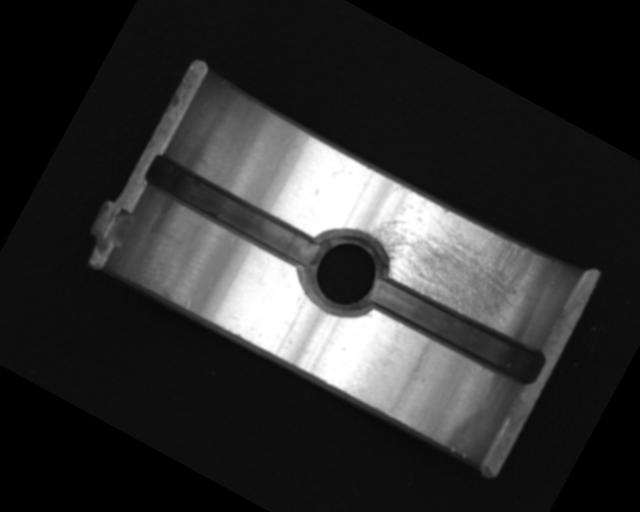gap: (363, 267, 548, 393), (140, 149, 325, 274)
hole: (288, 214, 401, 329)
scratch: (354, 177, 554, 342)
